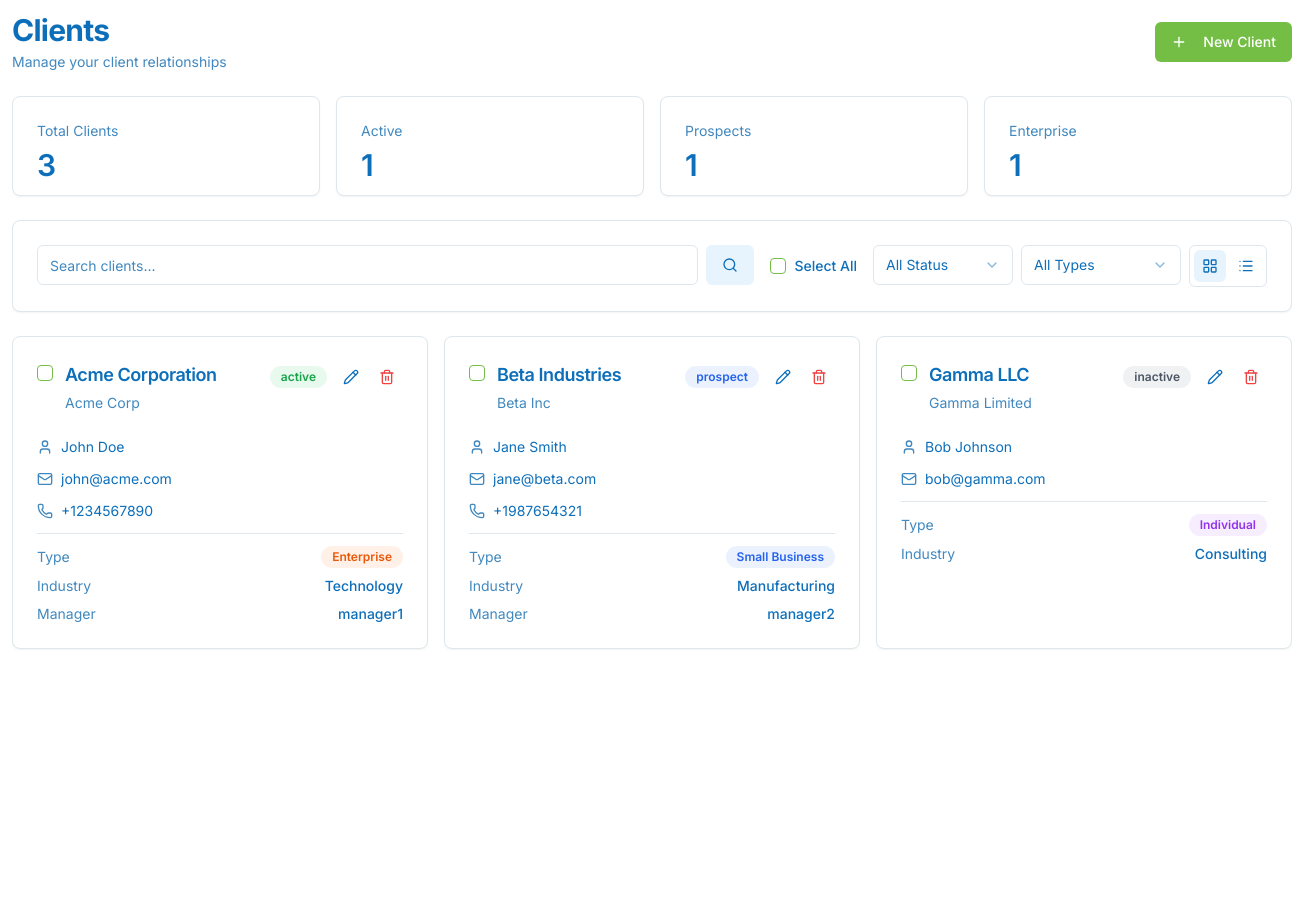
Scenario: ClientsPage › Client Selection › clears selection
This screenshot has width=1304, height=912.
Expected: the text "Acme Corporation" is shown, [65,364,217,385]
Click the checkbox named "Select All" next to "Select All" at (778, 266), box [770,258,786,274]
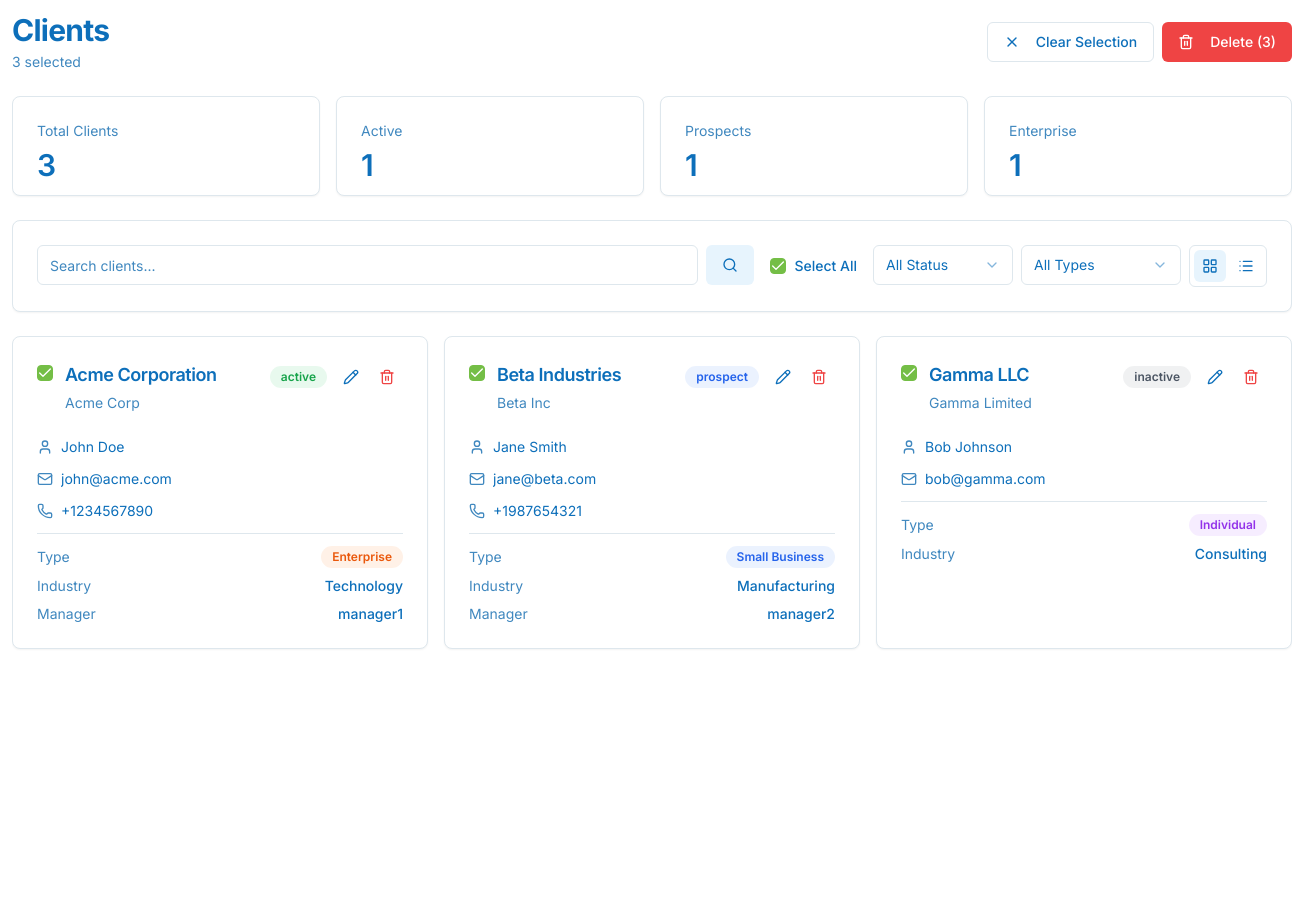
Expected: the text "3 selected" is shown, [12,53,81,70]
Click the button "Clear Selection" at (1070, 42), box [987,22,1154,62]
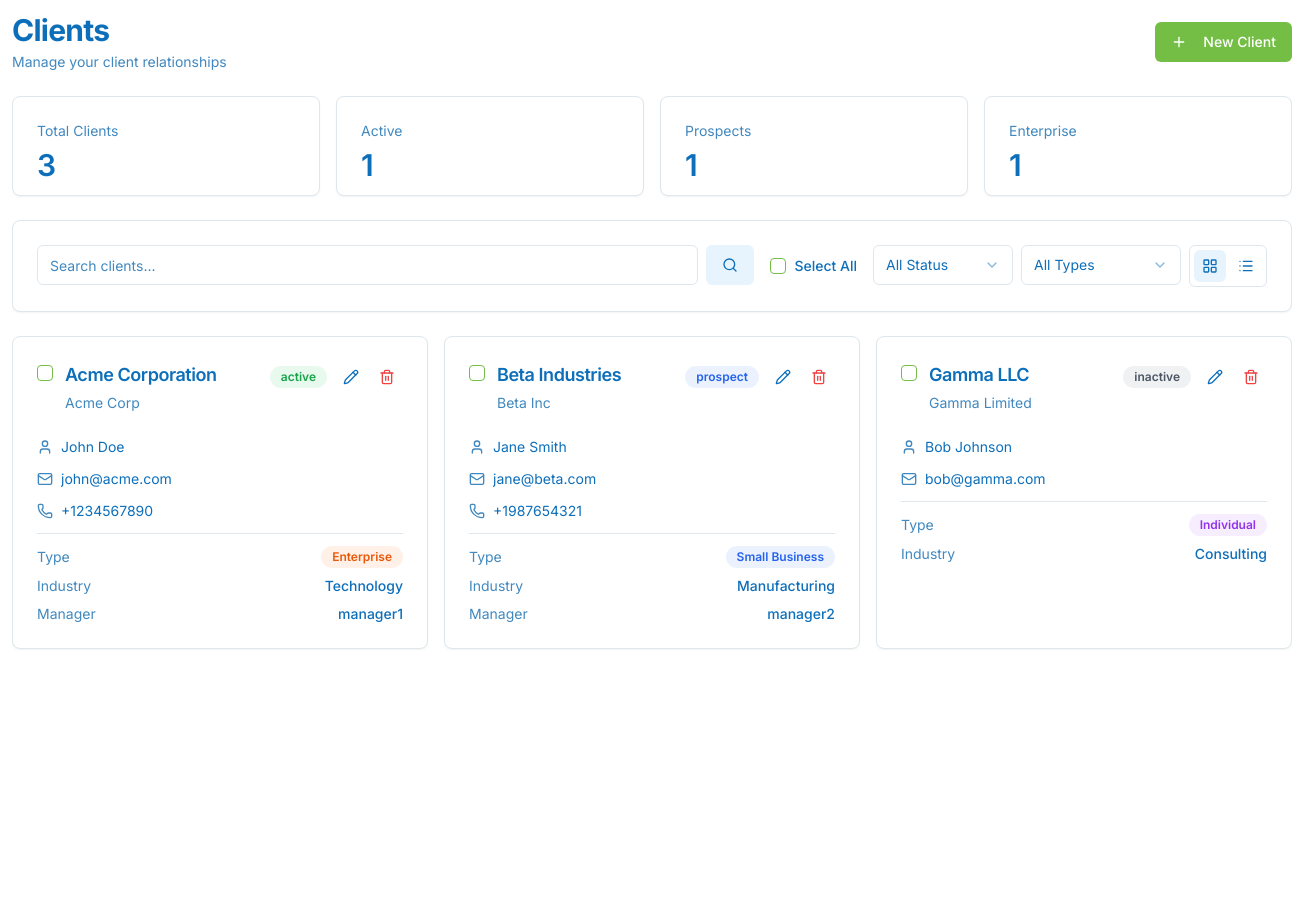
Expected: the text "Manage your client relationships" is shown, [12,52,227,72]
